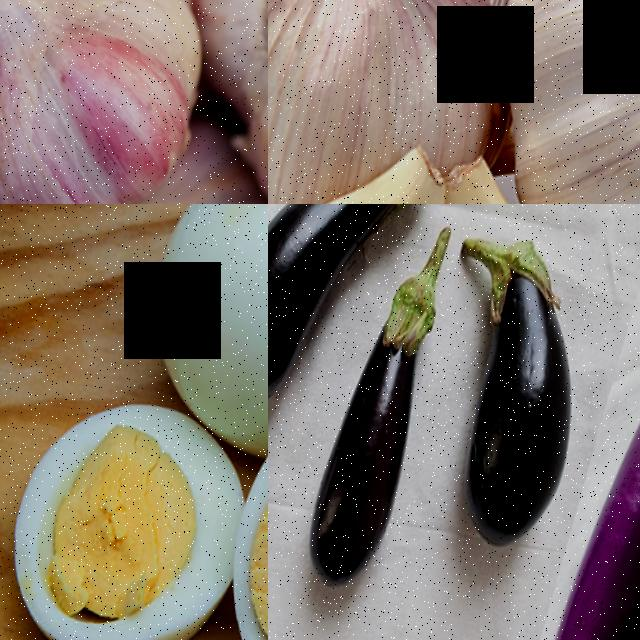egg_: (0, 360, 268, 640), (157, 354, 268, 640), (123, 204, 268, 418)
eggplant: (392, 219, 640, 572), (268, 253, 479, 604), (484, 309, 640, 640), (268, 204, 461, 436)
garlic: (268, 0, 578, 198), (0, 0, 242, 204), (453, 0, 640, 204), (137, 0, 268, 189), (268, 110, 468, 204)
